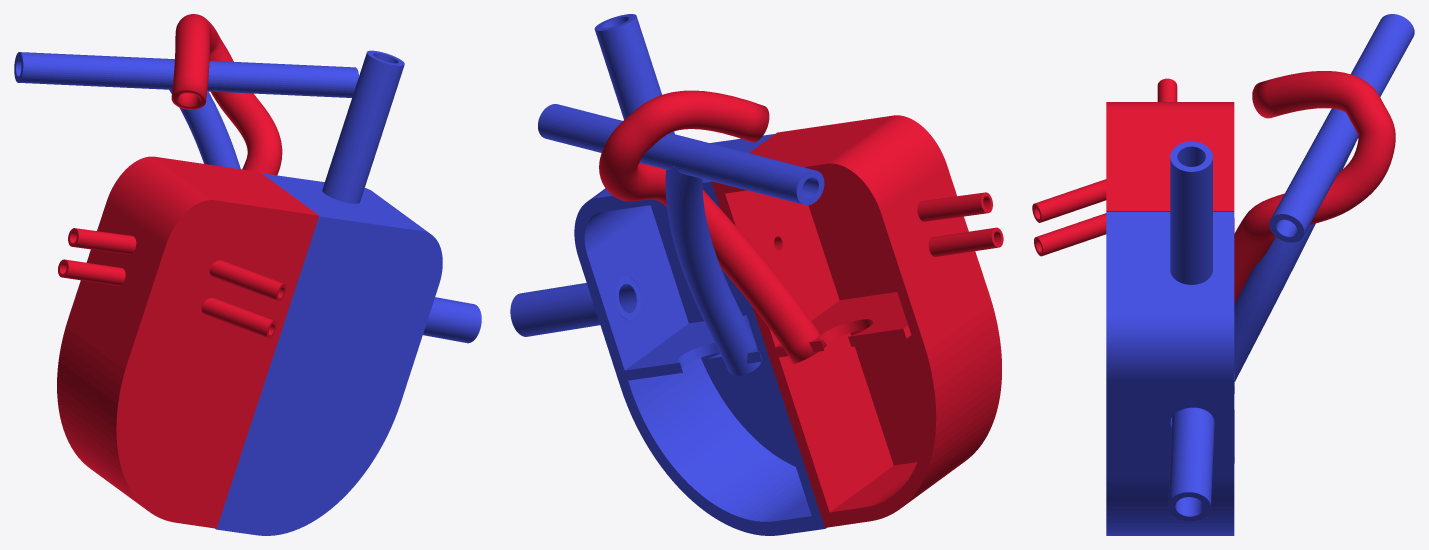
Rendered from ASD.glb.
The picture shows the model from 3 angles, left to right: view 1: azimuth 30°, elevation 25°; view 2: azimuth 150°, elevation 25°; view 3: azimuth 270°, elevation 25°; orthographic projection. The views are drawn at different scales.
Visible parts, largest first — view 1: Left Atria and Ventricle, Right Atria and Ventricle, Pulmonary sides hollow, BezierCurve.001, Superior hollow, Pulmonary Trunk hollow, Inferior vena cava hollow, Upper right pul hollow, lower right pul hollow, Upper left pul hollow, lower left pul. hollow; view 2: Left Atria and Ventricle, Right Atria and Ventricle, BezierCurve.001, Pulmonary sides hollow, Pulmonary Trunk hollow, Inferior vena cava hollow, Superior hollow, Mitral Valve, Tricuspid valve, Upper left pul hollow, lower left pul. hollow; view 3: Right Atria and Ventricle, BezierCurve.001, Left Atria and Ventricle, Pulmonary sides hollow, Superior hollow, Inferior vena cava hollow, Pulmonary Trunk hollow, Upper right pul hollow, lower right pul hollow, Upper left pul hollow.
Part boxes in pixels (box(x1,y1,x2,y2)): Left Atria and Ventricle: box(57, 156, 319, 528); Right Atria and Ventricle: box(215, 173, 442, 535); Pulmonary sides hollow: box(14, 52, 358, 97); BezierCurve.001: box(171, 14, 282, 175); Superior hollow: box(322, 50, 404, 203); Pulmonary Trunk hollow: box(169, 89, 240, 169); Inferior vena cava hollow: box(423, 297, 481, 343); Upper right pul hollow: box(209, 260, 286, 301); lower right pul hollow: box(201, 298, 276, 338); Upper left pul hollow: box(68, 228, 136, 254); lower left pul. hollow: box(58, 259, 125, 285); Left Atria and Ventricle: box(711, 115, 1001, 527); Right Atria and Ventricle: box(574, 134, 826, 535); BezierCurve.001: box(599, 90, 826, 363); Pulmonary sides hollow: box(538, 104, 824, 205); Pulmonary Trunk hollow: box(665, 165, 761, 375); Inferior vena cava hollow: box(510, 276, 641, 336); Superior hollow: box(594, 14, 674, 133); Mitral Valve: box(768, 292, 911, 358); Tricuspid valve: box(624, 315, 762, 380); Upper left pul hollow: box(917, 192, 992, 221); lower left pul. hollow: box(928, 227, 1003, 256); Right Atria and Ventricle: box(1106, 212, 1234, 535); BezierCurve.001: box(1234, 71, 1395, 304); Left Atria and Ventricle: box(1106, 102, 1234, 211); Pulmonary sides hollow: box(1269, 14, 1414, 242); Superior hollow: box(1170, 141, 1212, 284); Inferior vena cava hollow: box(1168, 407, 1214, 521); Pulmonary Trunk hollow: box(1234, 137, 1358, 381); Upper right pul hollow: box(1032, 179, 1106, 222); lower right pul hollow: box(1034, 213, 1106, 256); Upper left pul hollow: box(1157, 78, 1177, 101).
Bounding box in the file's own units: 5.94 × 5.71 × 4.3.
